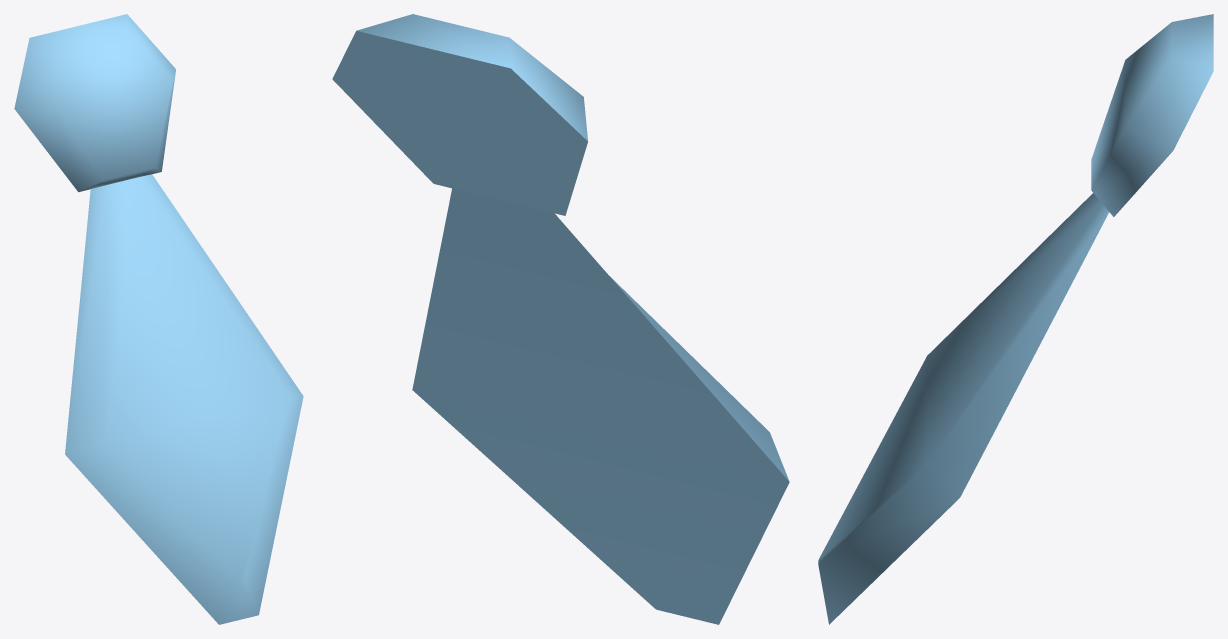
Rendered from necktie_3.fbx.
3 renders of one model, left to right at view 1: azimuth 30°, elevation 25°; view 2: azimuth 150°, elevation 25°; view 3: azimuth 270°, elevation 25°, orthographic. The views are drawn at different scales.
Visible parts, largest first — view 1: necktie_3; view 2: necktie_3; view 3: necktie_3.
Boxes of the visible parts, left/top/right/bottom form: necktie_3: left=14, top=14, right=303, bottom=624; necktie_3: left=332, top=14, right=789, bottom=624; necktie_3: left=818, top=14, right=1213, bottom=624.
Size of the model in its own units: 22.03 by 42.24 by 26.41.
Materials: 1 (1 with a texture image).
